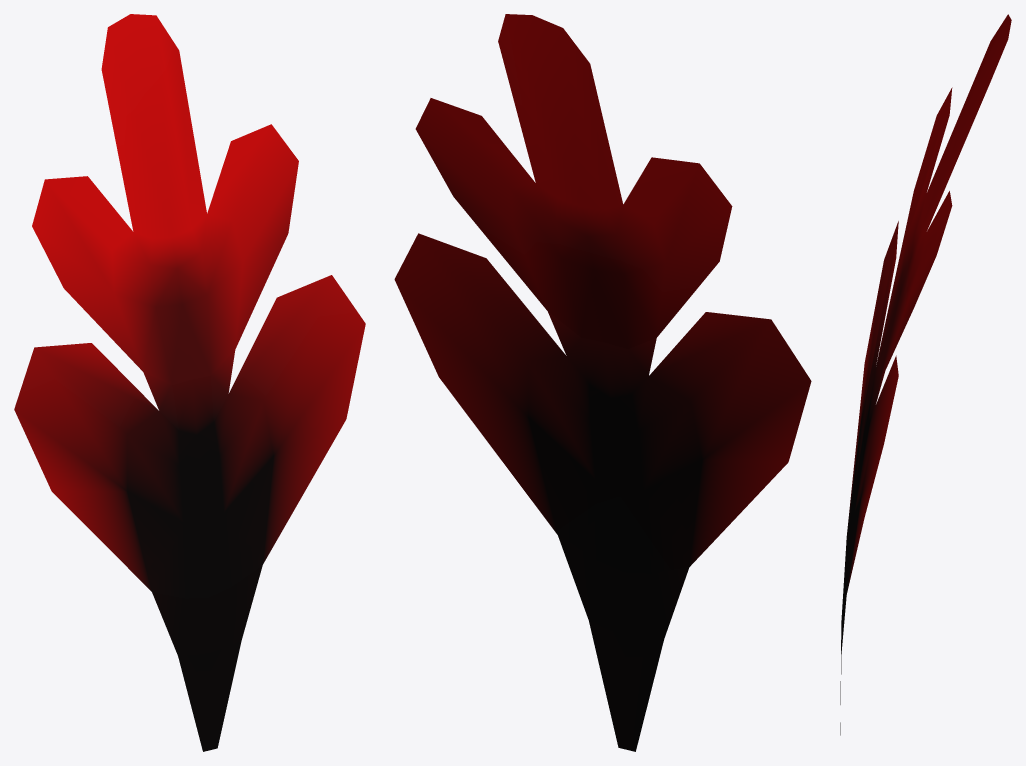
The model's file is SM_Fern_05_LOD0.fbx.
3 renders of one model, left to right at view 1: azimuth 30°, elevation 25°; view 2: azimuth 150°, elevation 25°; view 3: azimuth 270°, elevation 25°, orthographic. The views are drawn at different scales.
Visible parts, largest first — view 1: Fern_05_LOD0; view 2: Fern_05_LOD0; view 3: Fern_05_LOD0.
Boxes of the visible parts, x1,y1,x2,y2 form: Fern_05_LOD0: [14, 14, 365, 751]; Fern_05_LOD0: [394, 14, 811, 751]; Fern_05_LOD0: [840, 14, 1011, 735].
Bounding box in the file's own units: 48.73 × 89.76 × 19.15.
